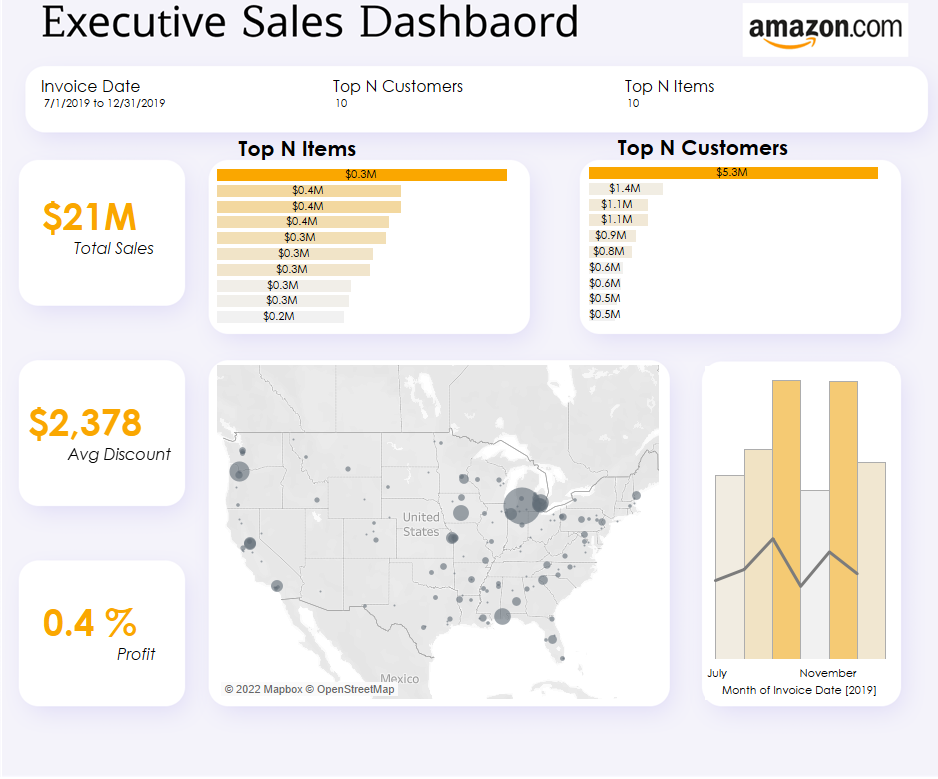

The dashboard page shown, as its layout file describes it:
{"tool":"tableau","page":{"name":"Executive Sales Dashboard","canvas":[938,779],"ordinal":0},"visuals":[{"type":"filter","title":"Map - ","param":"[federated.14b5aew0wemgz511c1hzx14karzi].[none:Invoice Date:qk]","box":[37,71,292,55]},{"type":"parameter","param":"[Parameters].[Parameter 2]","box":[329,71,292,55]},{"type":"parameter","param":"[Parameters].[Parameter 1]","box":[621,71,292,55]},{"type":"text","box":[233,137,129,22]},{"type":"text","box":[612,138,182,19]},{"type":"worksheet","title":"Bar - Top N Customers","mark":"Automatic","rows":["Customer"],"cols":["Sales Amount"],"box":[589,165,303,158]},{"type":"worksheet","title":"Bar - Top N Items","mark":"Automatic","rows":["Item"],"cols":["Sales Amount"],"box":[217,167,304,158]},{"type":"worksheet","title":"BAN - Total Sales","mark":"Automatic","box":[38,194,130,96]},{"type":"worksheet","title":"Map - ","mark":"Automatic","box":[217,365,442,334]},{"type":"worksheet","title":"Line - Monthly Sales","mark":"Automatic","rows":["Sales Amount","Sales Margin Amount"],"cols":["Invoice Date"],"box":[705,366,190,335]},{"type":"worksheet","title":"BAN - Avg Discount","mark":"Automatic","box":[24,371,152,126]},{"type":"worksheet","title":"BAN - Profit %","mark":"Automatic","box":[39,588,122,92]}]}

Visuals, with their boxes in screenshot pixels (x1, y1, x2, y2), scaled from the page's 938x779 canvas onto the 938x779 screenshot:
"Map - " filter: 37 71 329 126
parameter: 329 71 621 126
parameter: 621 71 913 126
text: 233 137 362 159
text: 612 138 794 157
"Bar - Top N Customers" worksheet: 589 165 892 323
"Bar - Top N Items" worksheet: 217 167 521 325
"BAN - Total Sales" worksheet: 38 194 168 290
"Map - " worksheet: 217 365 659 699
"Line - Monthly Sales" worksheet: 705 366 895 701
"BAN - Avg Discount" worksheet: 24 371 176 497
"BAN - Profit %" worksheet: 39 588 161 680
